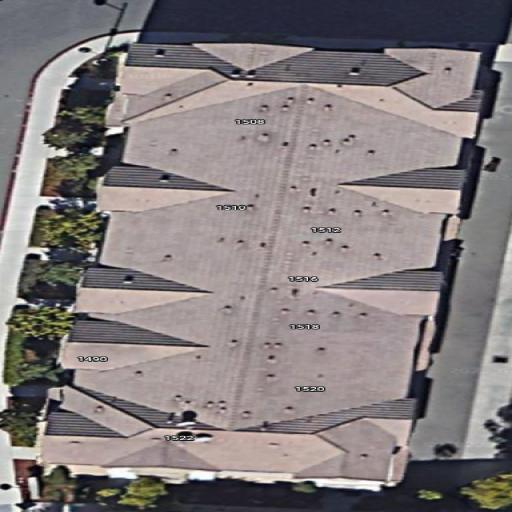Slope-Roof: (43, 42, 487, 482)
